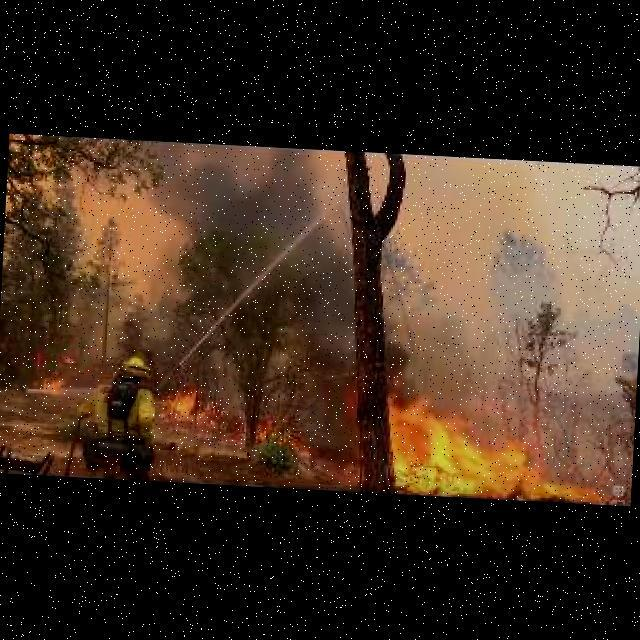Fire: (380, 388, 611, 500), (159, 378, 315, 462), (36, 365, 70, 399), (62, 351, 75, 362)
Smoke: (143, 146, 364, 418)
